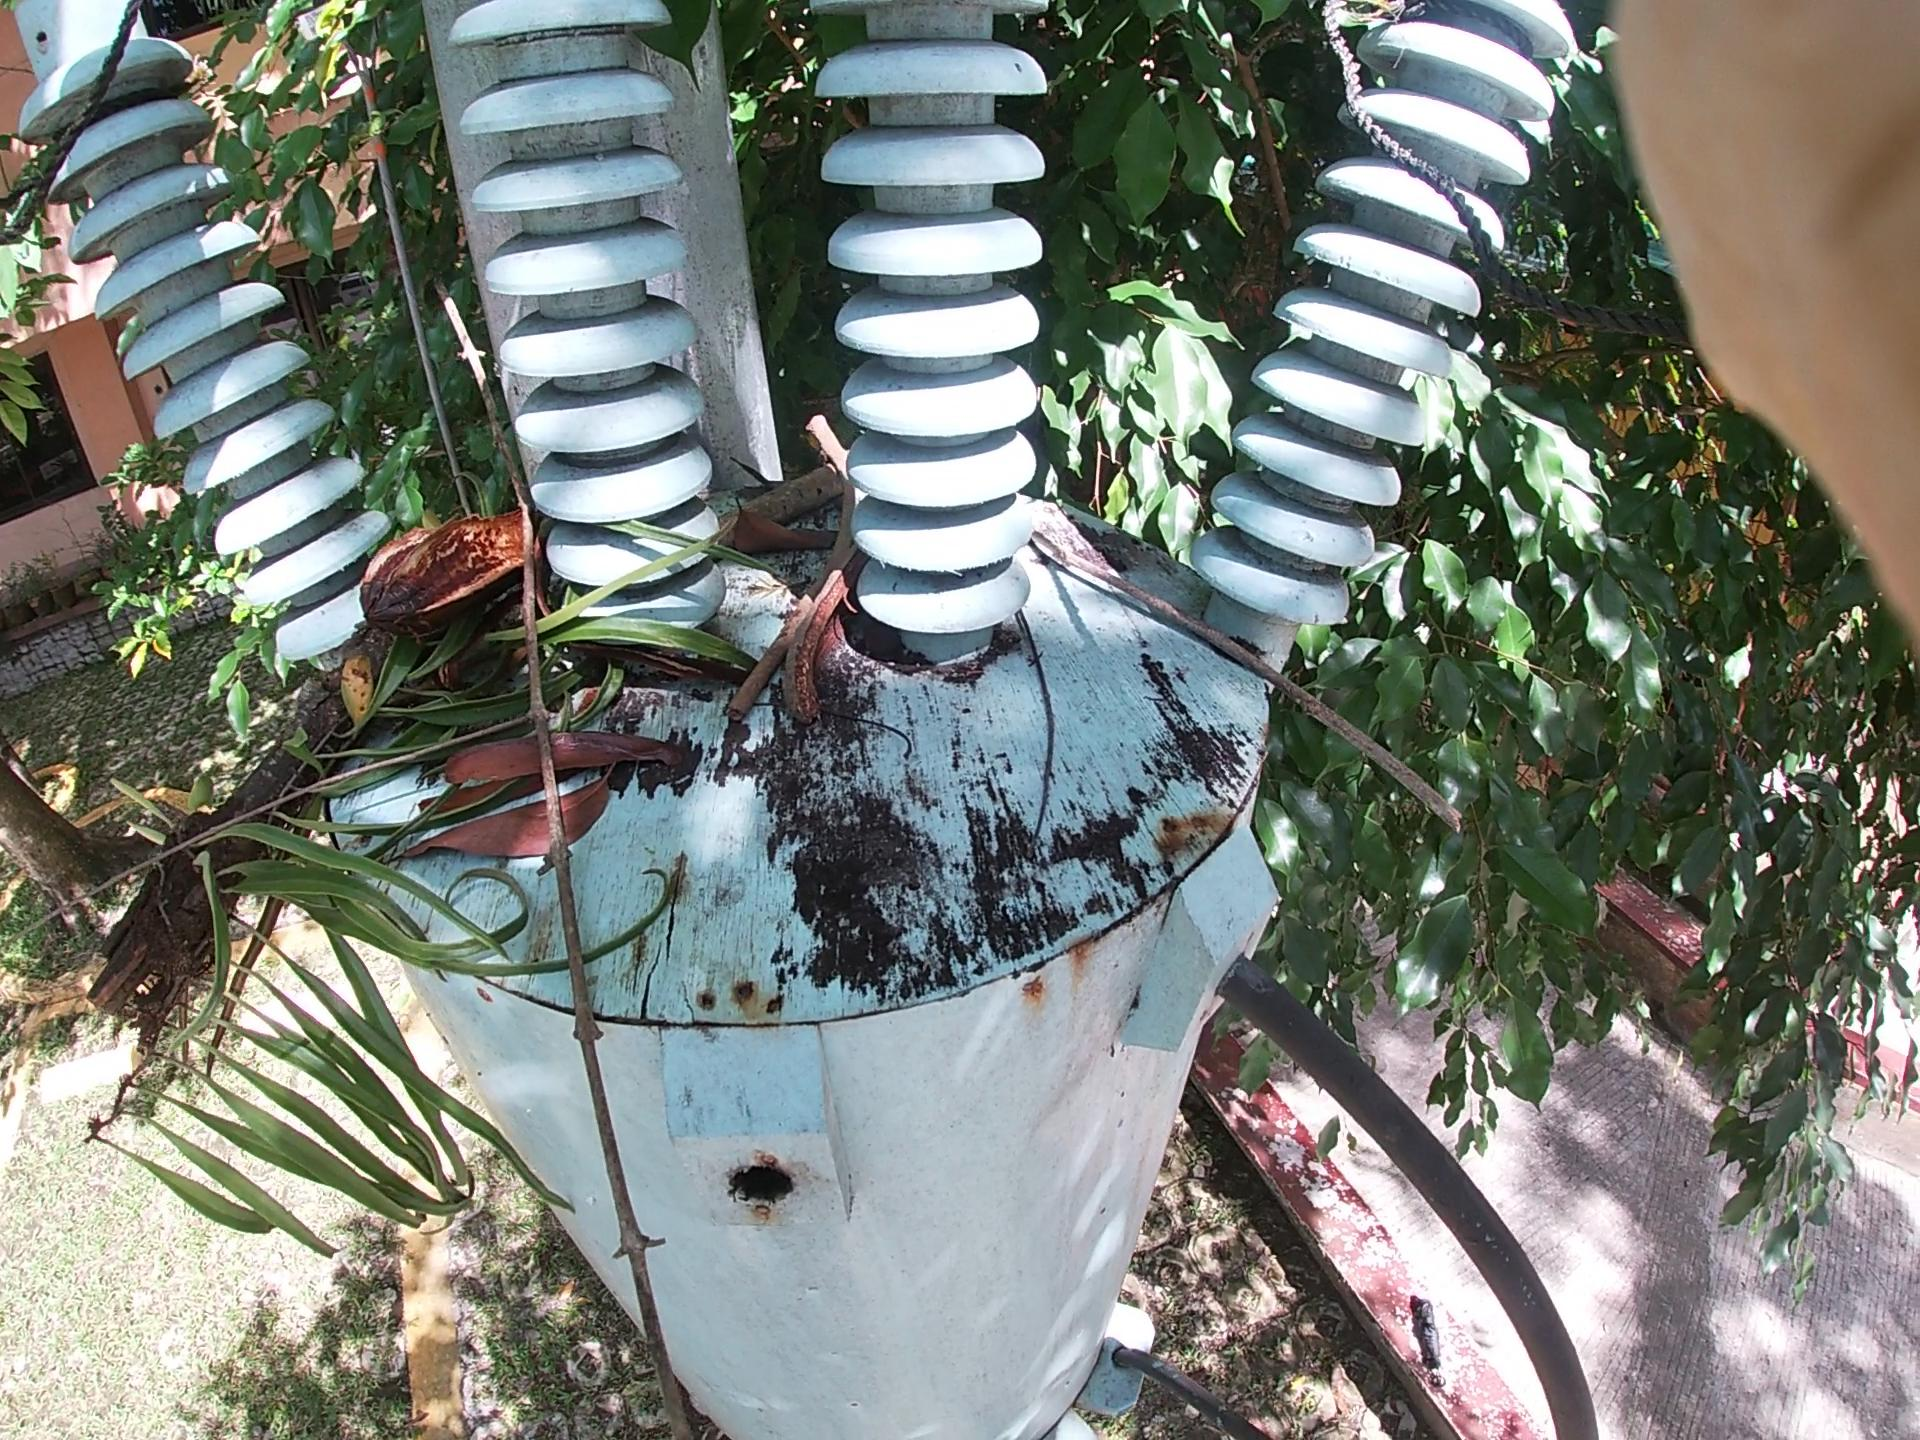branch with leaves: (112, 546, 559, 1215)
leaf: (432, 702, 594, 924)
mahogany fruit: (342, 440, 562, 653), (791, 452, 868, 744)
tree branch: (434, 293, 694, 1317), (1014, 510, 1565, 897), (770, 380, 869, 749)
